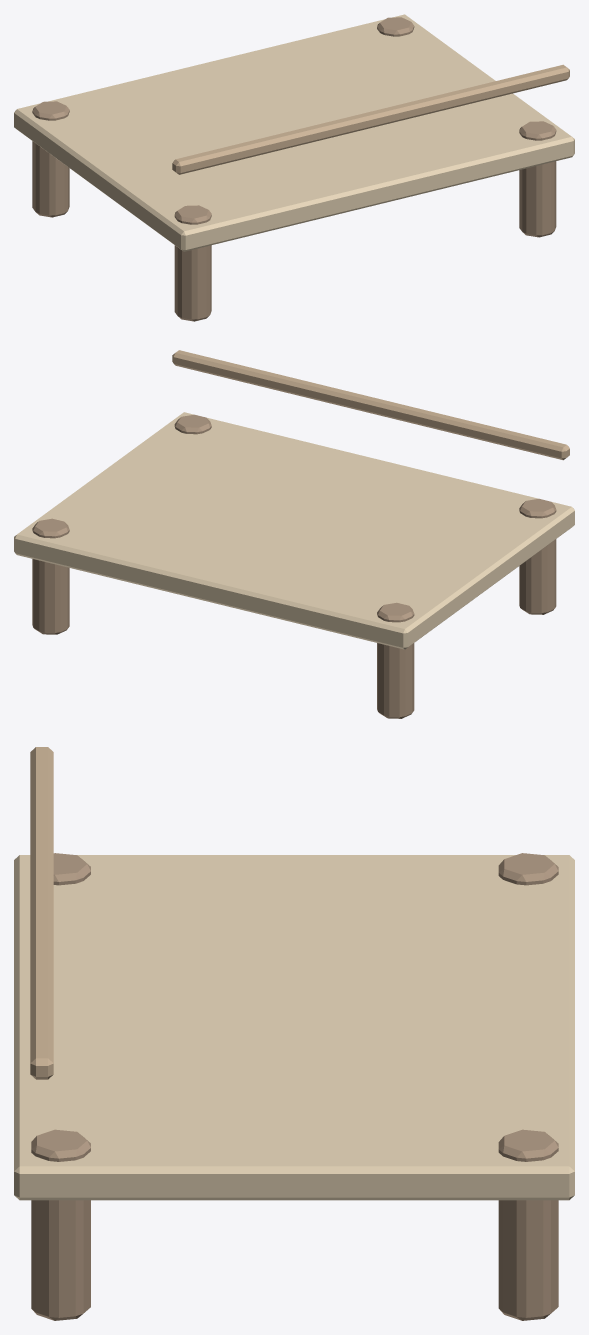
Rendered from dock.glb.
3 views of the same model, one above another, from view 1: azimuth 30°, elevation 25°; view 2: azimuth 150°, elevation 25°; view 3: azimuth 270°, elevation 25° (orthographic). The views are drawn at different scales.
Parts seen in each view (by area): view 1: deck, rail, pile, pile.001, pile.002, pile.003; view 2: deck, rail, pile.002, pile.003, pile, pile.001; view 3: deck, pile.003, pile.001, rail, pile.002, pile.
Boxes of the visible parts, x1,y1,x2,y2 form: deck: (14, 14, 574, 251); rail: (172, 64, 569, 174); pile: (174, 205, 211, 321); pile.001: (519, 121, 556, 237); pile.002: (32, 101, 69, 217); pile.003: (377, 17, 414, 36); deck: (14, 412, 574, 649); rail: (172, 350, 569, 460); pile.002: (377, 602, 414, 718); pile.003: (32, 518, 69, 634); pile: (519, 498, 556, 614); pile.001: (174, 414, 211, 434); deck: (14, 855, 574, 1200); pile.003: (498, 1129, 558, 1320); pile.001: (31, 1129, 90, 1320); rail: (30, 747, 53, 1079); pile.002: (498, 853, 558, 885); pile: (53, 853, 90, 885).
Bounding box in the file's own units: 1.6 × 0.635 × 1.2.
